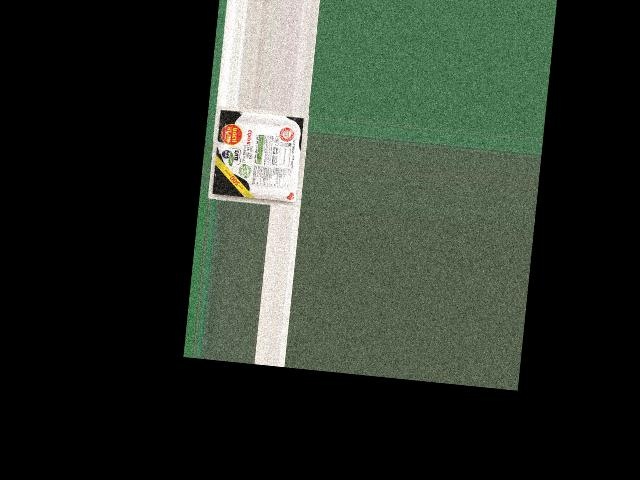cheese: (213, 108, 301, 206)
